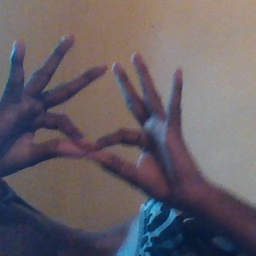B: (10, 91, 161, 194)
